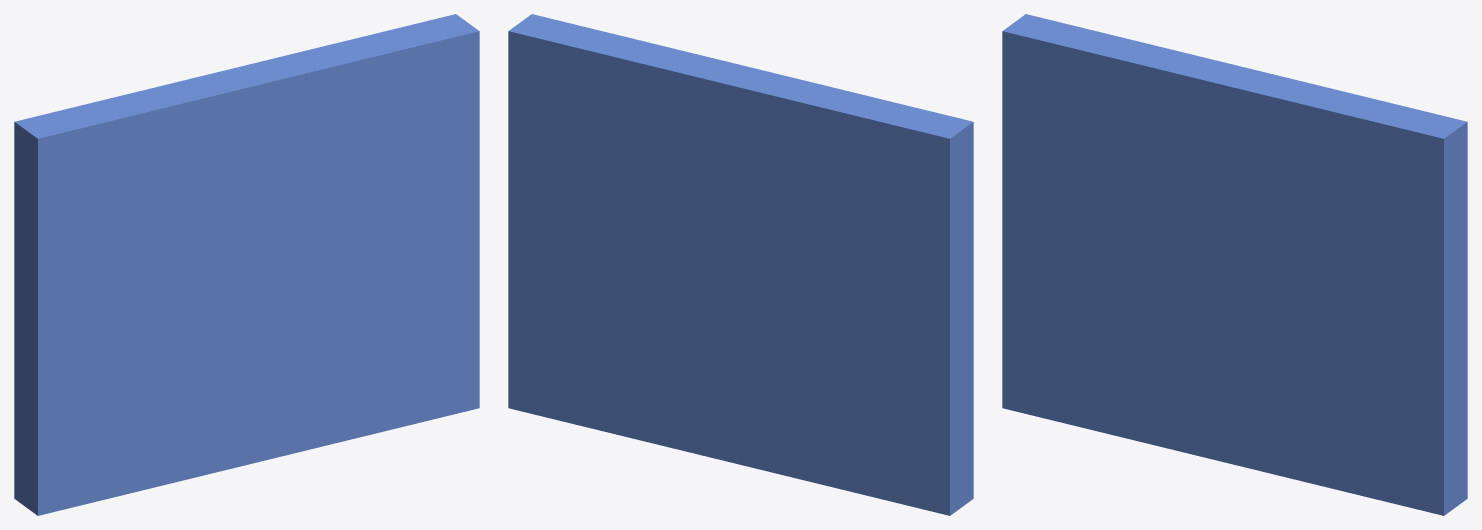
Rendered from SolarPanel.glb.
3 views of the same model, side by side, from view 1: azimuth 30°, elevation 25°; view 2: azimuth 150°, elevation 25°; view 3: azimuth 330°, elevation 25° (orthographic).
Visible parts, largest first — view 1: Panel, Piece; view 2: Panel, Piece; view 3: Panel, Piece.
Part boxes in pixels (x1,y1,x2,y2): Panel: [14, 14, 479, 515]; Piece: [124, 154, 368, 413]; Panel: [508, 14, 973, 515]; Piece: [619, 154, 863, 413]; Panel: [1002, 14, 1467, 515]; Piece: [1089, 122, 1333, 372].
Size of the model in its own units: 13.86 by 11.31 by 1.27.
